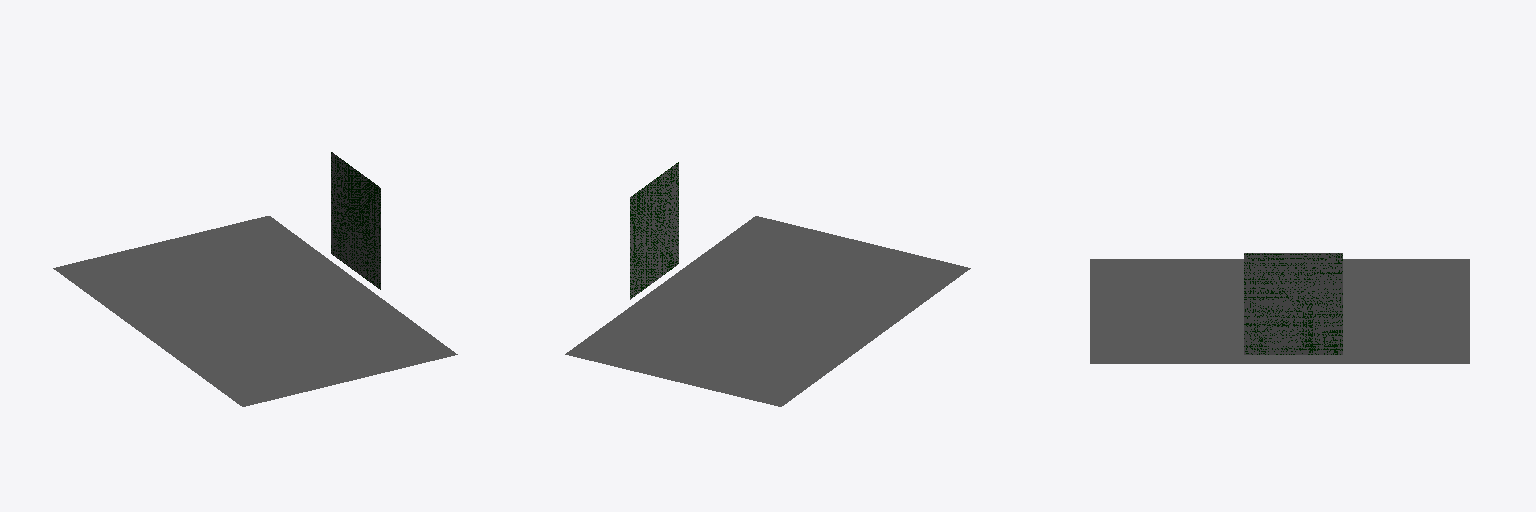
File: cornell_box_VI_many_lights.obj
3 views of the same model, side by side, from view 1: azimuth 30°, elevation 25°; view 2: azimuth 150°, elevation 25°; view 3: azimuth 270°, elevation 25° (orthographic).
Parts seen in each view (by area): view 1: floor, L_floor, L_green_wall; view 2: floor, L_floor, L_green_wall; view 3: floor, L_floor, L_green_wall.
Part boxes in pixels (x1,y1,x2,y2): floor: (53,216,457,406); L_floor: (331,152,380,288); L_green_wall: (331,152,380,289); floor: (565,216,970,406); L_floor: (630,164,678,299); L_green_wall: (630,162,678,297); floor: (1090,259,1469,363); L_floor: (1244,253,1342,354); L_green_wall: (1244,253,1342,354).
Bounding box in the file's own units: 553 × 270 × 840.